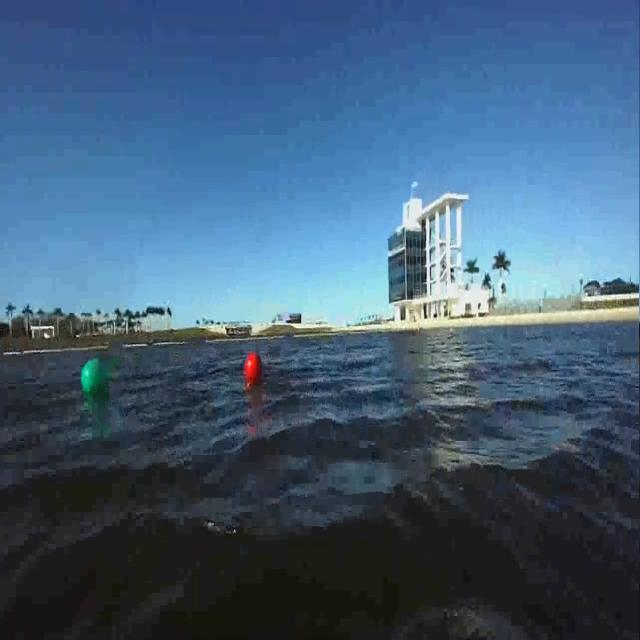green-buoy: (78, 358, 109, 397)
red-buoy: (243, 352, 260, 383)
